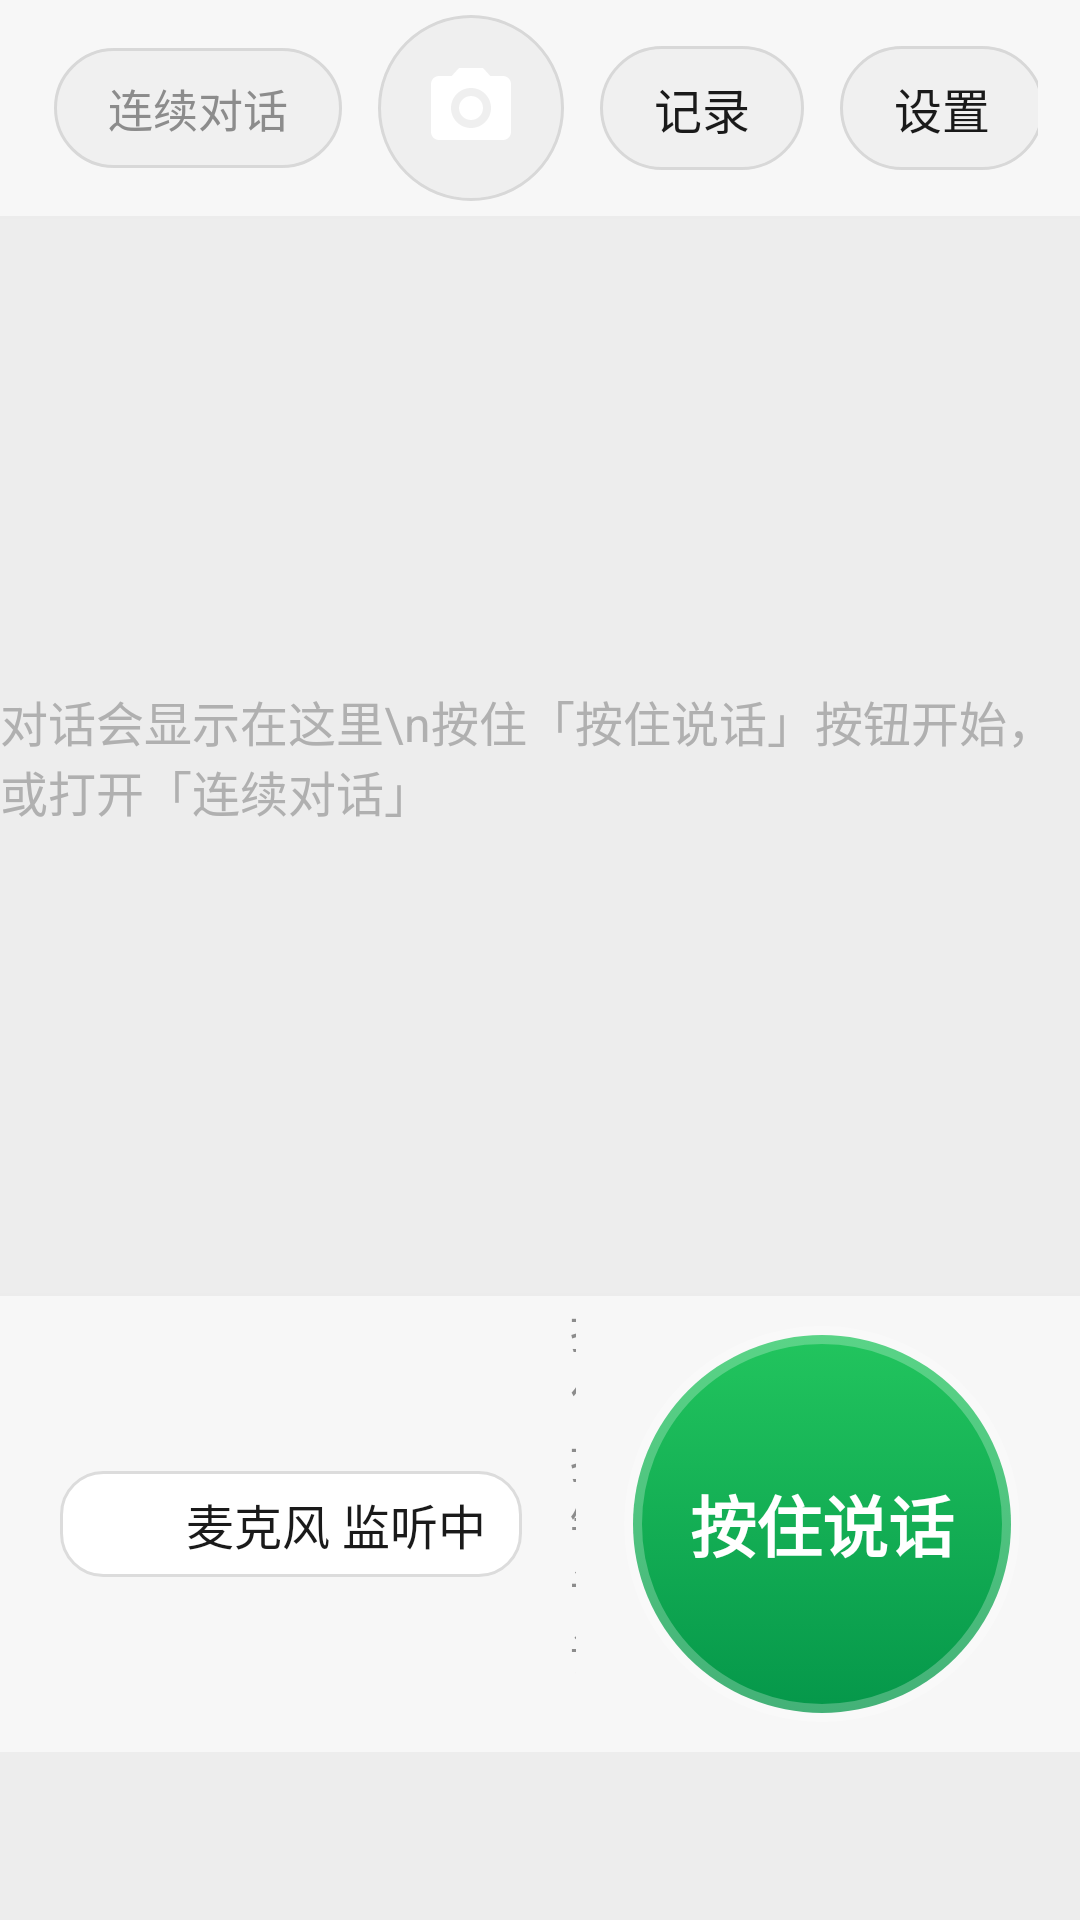

Named icons in this screenshot (1080x1920) and their bounding boxes, (x1, y1, x2, y2):
摄像头: (378, 15, 564, 201)
